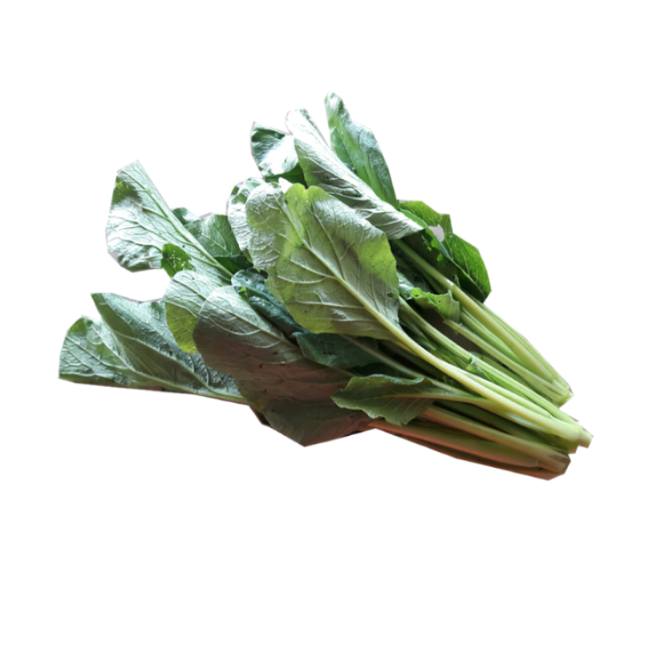Sawi: (60, 101, 591, 493)
